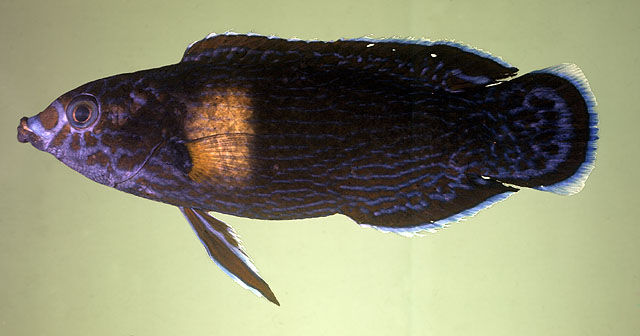fish: (16, 29, 599, 307)
